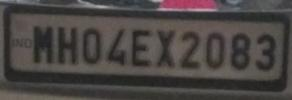0: (205, 30, 231, 68), (81, 24, 102, 65)
2: (180, 29, 202, 71)
3: (255, 32, 278, 74)
4: (106, 25, 129, 68)
8: (228, 32, 253, 72)
E: (131, 27, 153, 69)
H: (57, 22, 79, 66)
M: (31, 21, 55, 66)
X: (155, 26, 178, 70)
